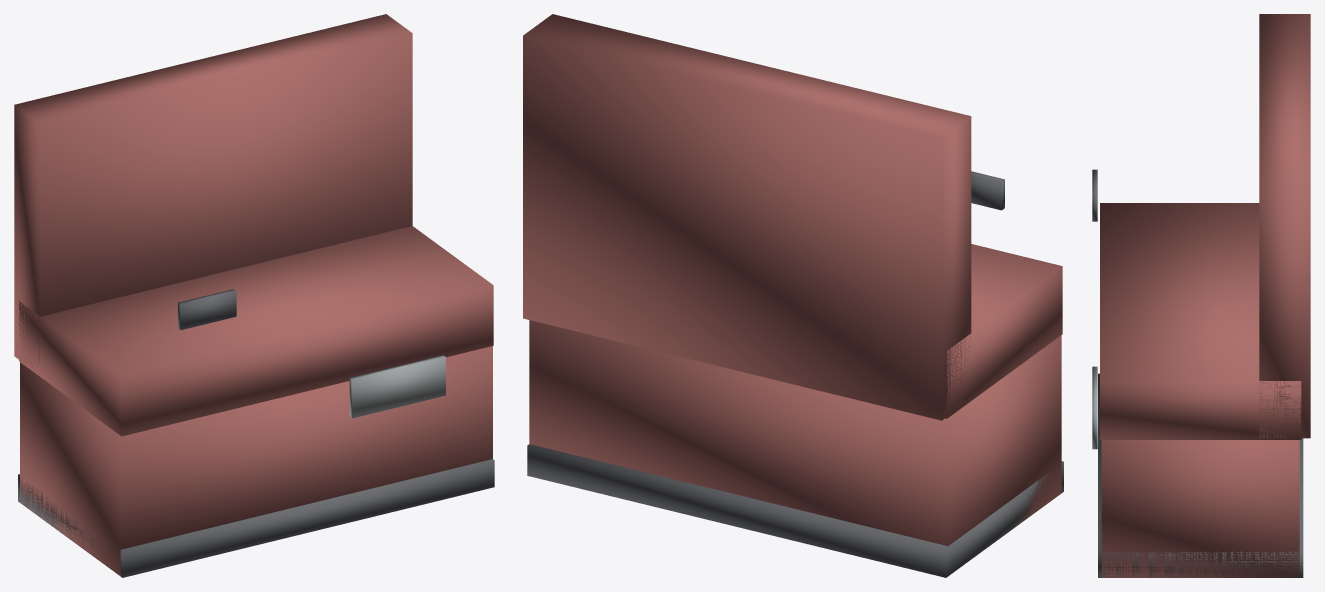
Rendered from diner_booth_single__weathered.glb.
The picture shows the model from 3 angles, left to right: view 1: azimuth 30°, elevation 25°; view 2: azimuth 150°, elevation 25°; view 3: azimuth 270°, elevation 25°; orthographic projection. The views are drawn at different scales.
Visible parts, largest first — view 1: world; view 2: world; view 3: world.
Part boxes in pixels (x1,y1,x2,y2): world: (14,14,494,577); world: (523,14,1063,577); world: (1092,14,1310,577).
Bounding box in the file's own units: 1.15 × 1.16 × 0.5954.
